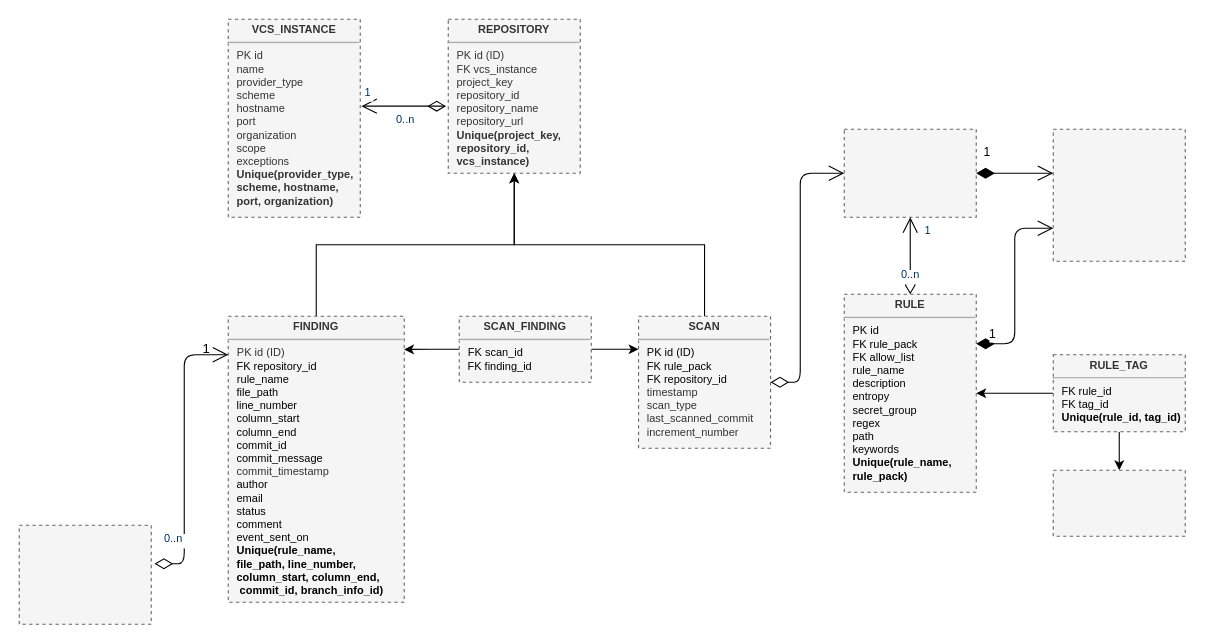
Image size: 1205x644. Some labels were removed from this diagram. Each missing label, with the centre of its shape:
"AUDIT PK id (ID) FK finding_id status comment timestamp" goes at point (84, 574).
"RULE_ALLOW_LIST PK id description regexes paths commits stop_words" goes at point (1118, 194).
"RULE_PACK PK version FK global_allow_list active" goes at point (909, 172).
"TAG PK id tag" goes at point (1118, 502).
